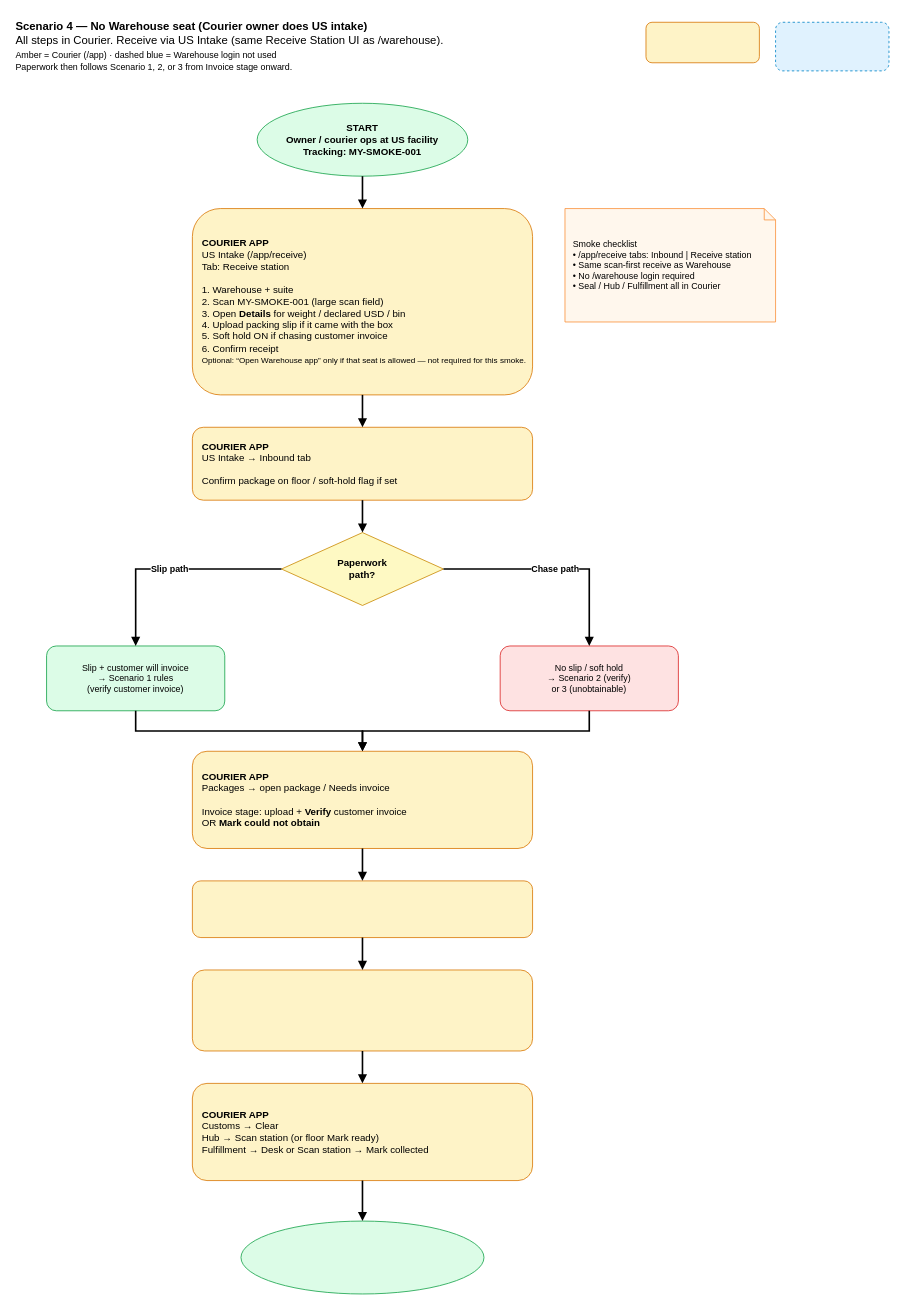
This 903x1308 diagram has some shape labels left out. The shapes that lost their labels are listed below. From the top down, each one's box as (x1, y1, x2, y2) in pixels, then its label:
(645, 21, 759, 63): COURIER APP /app — all steps
(775, 21, 889, 71): WAREHOUSE APP NOT USED (no /warehouse login)
(192, 880, 533, 938): COURIER APP Optional: Duty / Billing / HS Tariffs
(192, 969, 533, 1051): COURIER APP Manifests → Seal → AWBOLDS → JCA stub Shipped → Arrived Jamaica
(240, 1220, 484, 1294): DONE All in Courier — no Warehouse seat handoff
